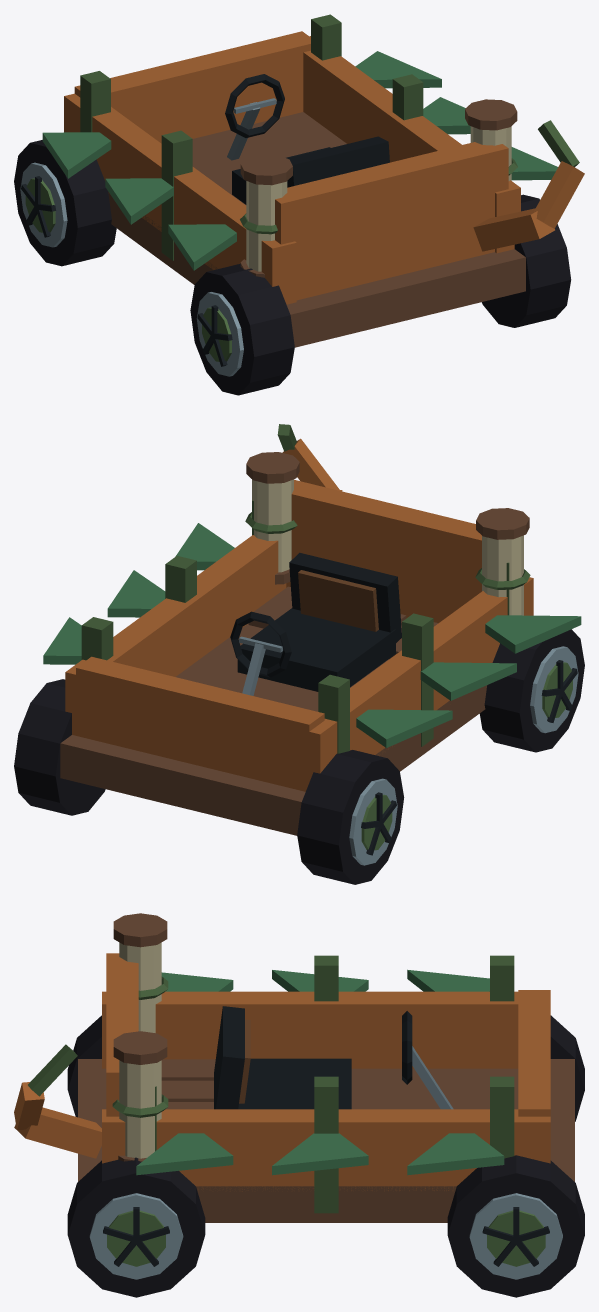
The model's file is kart.glb.
3 renders of one model, top to bottom at view 1: azimuth 30°, elevation 25°; view 2: azimuth 150°, elevation 25°; view 3: azimuth 270°, elevation 25°, orthographic. The views are drawn at different scales.
Visible parts, largest first — view 1: identity-wagon-wagon-timber-coach, wheel-rear-left, identity-wagon-motif-leaves, wheel-front-left, identity-wagon-motif-scrolls, identity-wagon-driver-cockpit, wheel-rear-right, identity-wagon-motif-tail; view 2: identity-wagon-wagon-timber-coach, identity-wagon-driver-cockpit, identity-wagon-motif-leaves, wheel-front-left, wheel-rear-left, identity-wagon-motif-scrolls, wheel-front-right, identity-wagon-motif-tail; view 3: identity-wagon-wagon-timber-coach, wheel-front-right, wheel-rear-right, identity-wagon-motif-leaves, identity-wagon-driver-cockpit, identity-wagon-motif-scrolls, identity-wagon-motif-tail, wheel-front-left, wheel-rear-left.
Part boxes in pixels (x1,y1,x2,y2): identity-wagon-wagon-timber-coach: (64,14,525,347); wheel-rear-left: (190,263,294,395); identity-wagon-motif-leaves: (42,51,557,270); wheel-front-left: (14,140,116,266); identity-wagon-motif-scrolls: (240,99,517,277); identity-wagon-driver-cockpit: (225,74,389,204); wheel-rear-right: (482,194,571,327); identity-wagon-motif-tail: (473,120,584,251); identity-wagon-wagon-timber-coach: (60,479,533,835); identity-wagon-driver-cockpit: (230,552,401,695); identity-wagon-motif-leaves: (43,523,581,747); wheel-front-left: (297,750,404,884); wheel-rear-left: (479,629,584,752); identity-wagon-motif-scrolls: (245,452,530,615); wheel-front-right: (14,679,105,815); identity-wagon-motif-tail: (277,424,342,491); identity-wagon-wagon-timber-coach: (78,953,574,1222); wheel-front-right: (447,1155,584,1297); wheel-rear-right: (67,1157,205,1297); identity-wagon-motif-leaves: (136,969,504,1175); identity-wagon-driver-cockpit: (214,1006,453,1109); identity-wagon-motif-scrolls: (112,913,168,1161); identity-wagon-motif-tail: (14,1044,101,1158); wheel-front-left: (550,1015,584,1121); wheel-rear-left: (67,1015,101,1117).
Size of the model in its own units: 2.3 by 1.3 by 2.83.
